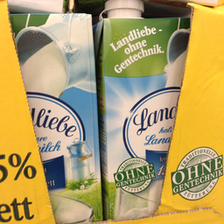milk: (4, 12, 107, 224), (97, 1, 195, 221)
